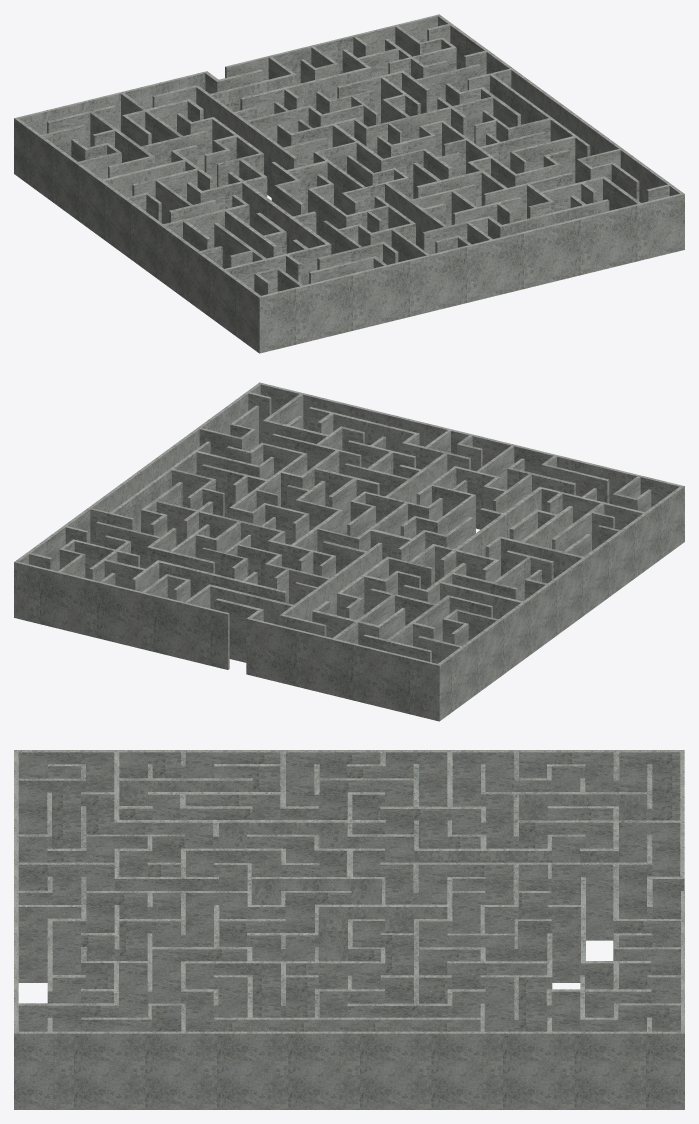
The model's file is maze1test).fbx.
The picture shows the model from 3 angles, top to bottom: view 1: azimuth 30°, elevation 25°; view 2: azimuth 150°, elevation 25°; view 3: azimuth 270°, elevation 25°; orthographic projection. The views are drawn at different scales.
Visible parts, largest first — view 1: Cube, Cube.037, Cube.019, Cube.015, Cube.025, Cube.024, Cube.042, Cube.014, Cube.046, Cube.010, Cube.007, Cube.004 (+63 smaller); view 2: Cube, Cube.055, Cube.049, Cube.050, Cube.058, Cube.007, Cube.010, Cube.014, Cube.004, Cube.046, Cube.037, Cube.002 (+62 smaller); view 3: Cube, Cube.046, Cube.045, Cube.262, Cube.259, Cube.134, Cube.213, Cube.002, Cube.137, Cube.160, Cube.007, Cube.057 (+91 smaller).
Boxes of the visible parts, box(x1,y1,x2,y2) form: Cube: box(90, 15, 575, 173); Cube.037: box(493, 204, 639, 295); Cube.019: box(304, 266, 385, 342); Cube.015: box(261, 285, 305, 352); Cube.025: box(430, 244, 473, 311); Cube.024: box(388, 255, 431, 321); Cube.042: box(641, 193, 684, 259); Cube.014: box(222, 270, 262, 353); Cube.046: box(510, 68, 621, 155); Cube.010: box(160, 224, 199, 307); Cube.007: box(123, 197, 162, 280); Cube.004: box(40, 136, 78, 218); Cube: box(17, 451, 435, 648); Cube.055: box(331, 638, 437, 720); Cube.049: box(246, 617, 331, 694); Cube.050: box(186, 603, 229, 669); Cube.058: box(140, 592, 183, 658); Cube.007: box(546, 558, 585, 640); Cube.010: box(582, 531, 621, 614); Cube.014: box(645, 485, 684, 568); Cube.004: box(463, 619, 501, 702); Cube.046: box(87, 428, 199, 512); Cube.037: box(303, 393, 449, 446); Cube.002: box(436, 647, 463, 721); Cube: box(252, 778, 684, 1031); Cube.046: box(185, 1031, 484, 1109); Cube.045: box(52, 1031, 185, 1109); Cube.262: box(552, 1031, 646, 1109); Cube.259: box(484, 1031, 551, 1109); Cube.134: box(18, 778, 85, 848); Cube.213: box(548, 862, 613, 940); Cube.002: box(619, 750, 684, 820); Cube.137: box(18, 862, 114, 904); Cube.160: box(418, 862, 513, 904); Cube.007: box(286, 750, 385, 806); Cube.057: box(613, 820, 680, 876).
Bounding box in the file's own units: 13301 × 1665 × 13300.
1 material, 1 textured.
